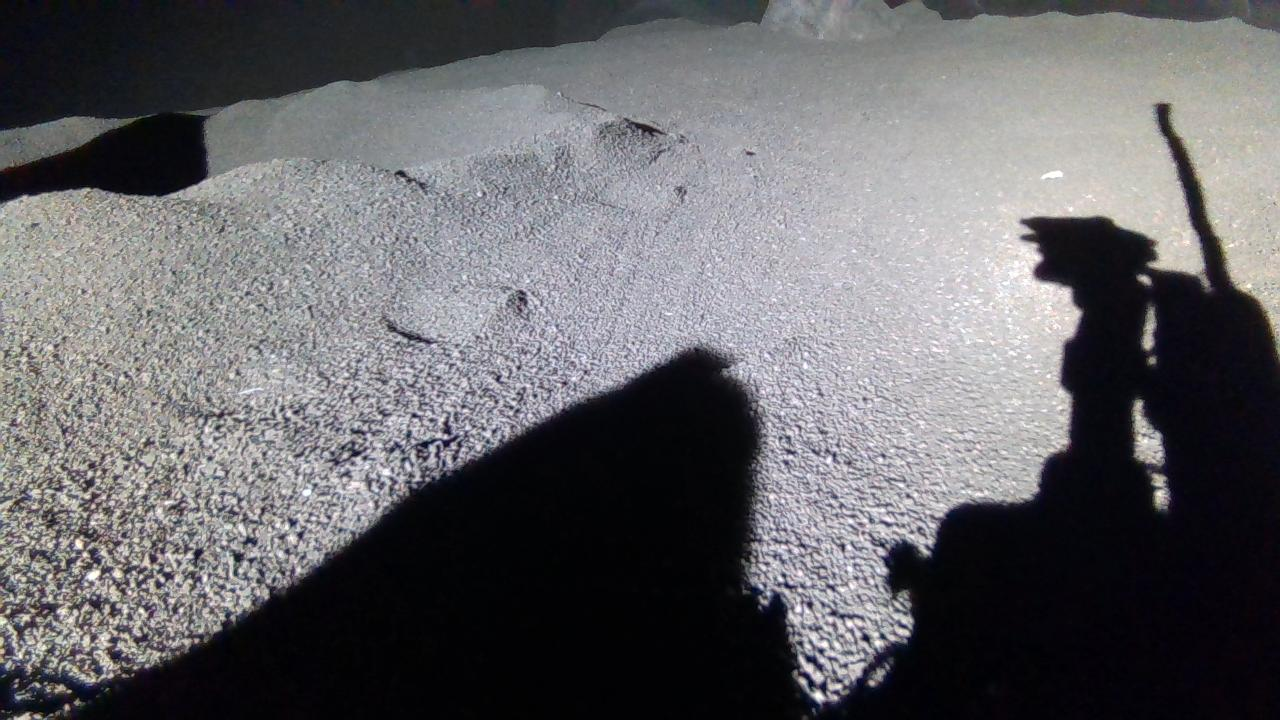rock: (764, 0, 903, 39)
